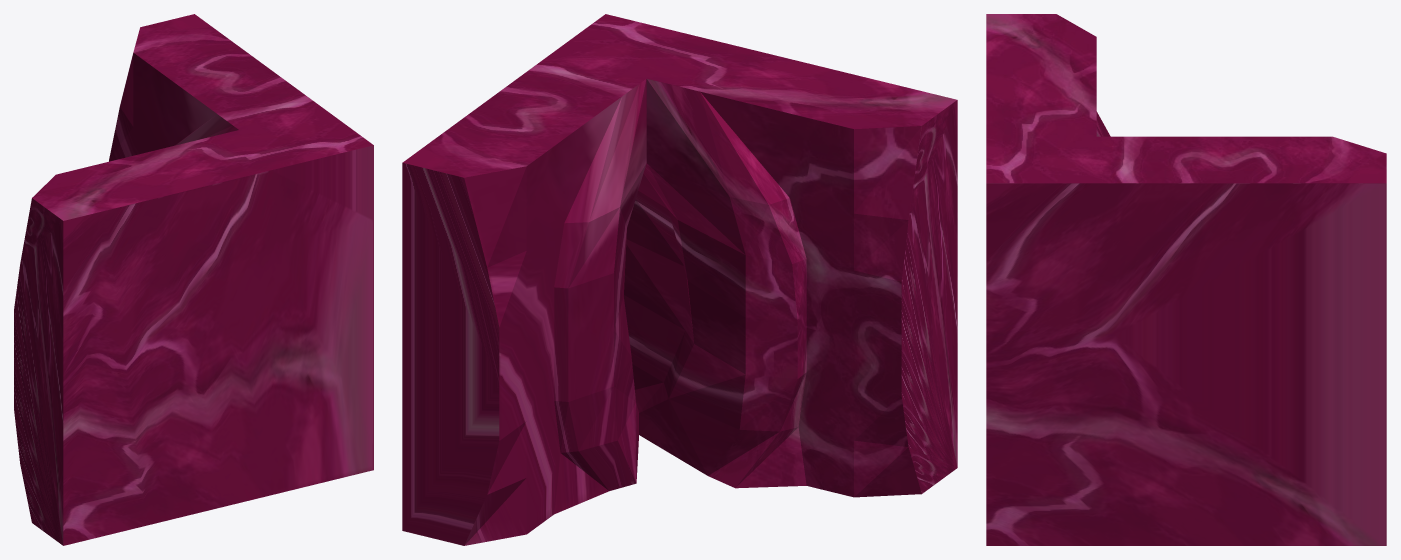
File: EspacioPornoEsquinaCierreInteriorAltoNI.gltf
3 renders of one model, left to right at view 1: azimuth 30°, elevation 25°; view 2: azimuth 150°, elevation 25°; view 3: azimuth 270°, elevation 25°, orthographic. The views are drawn at different scales.
Parts seen in each view (by area): view 1: Cubo.37; view 2: Cubo.37; view 3: Cubo.37.
Part boxes in pixels (left/top/right/bottom): Cubo.37: left=14, top=14, right=373, bottom=545; Cubo.37: left=402, top=14, right=957, bottom=545; Cubo.37: left=986, top=14, right=1386, bottom=545.
Bounding box in the file's own units: 2 × 2 × 2.
Materials: 1 (1 with a texture image).
